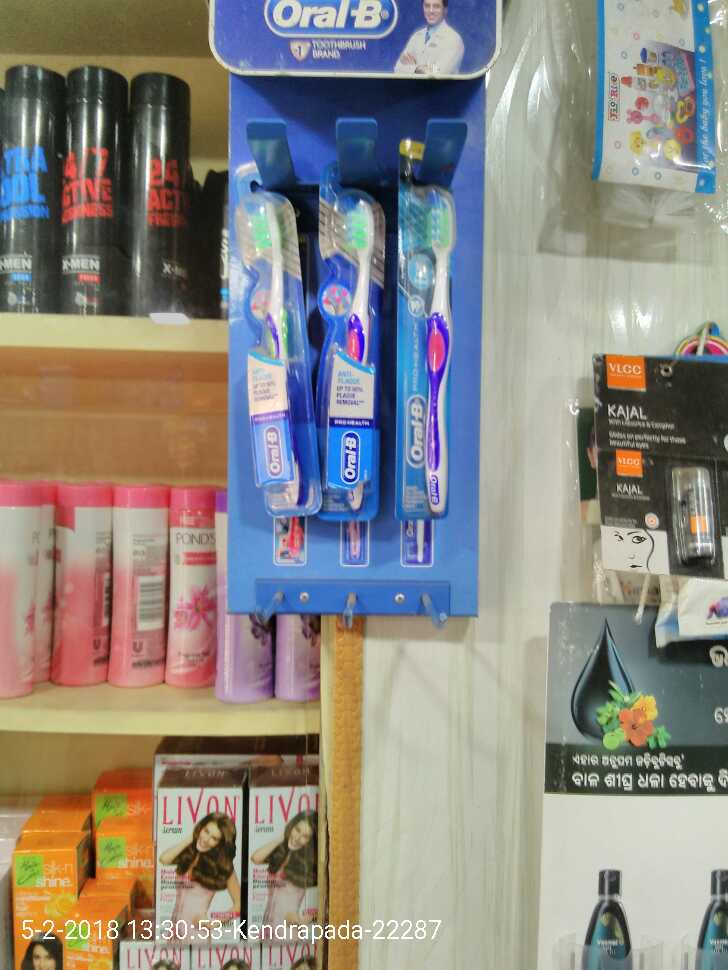pharmacy: (391, 160, 459, 527), (245, 187, 316, 521), (320, 172, 385, 523)
